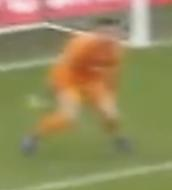goalkeeper: (12, 9, 160, 171)
